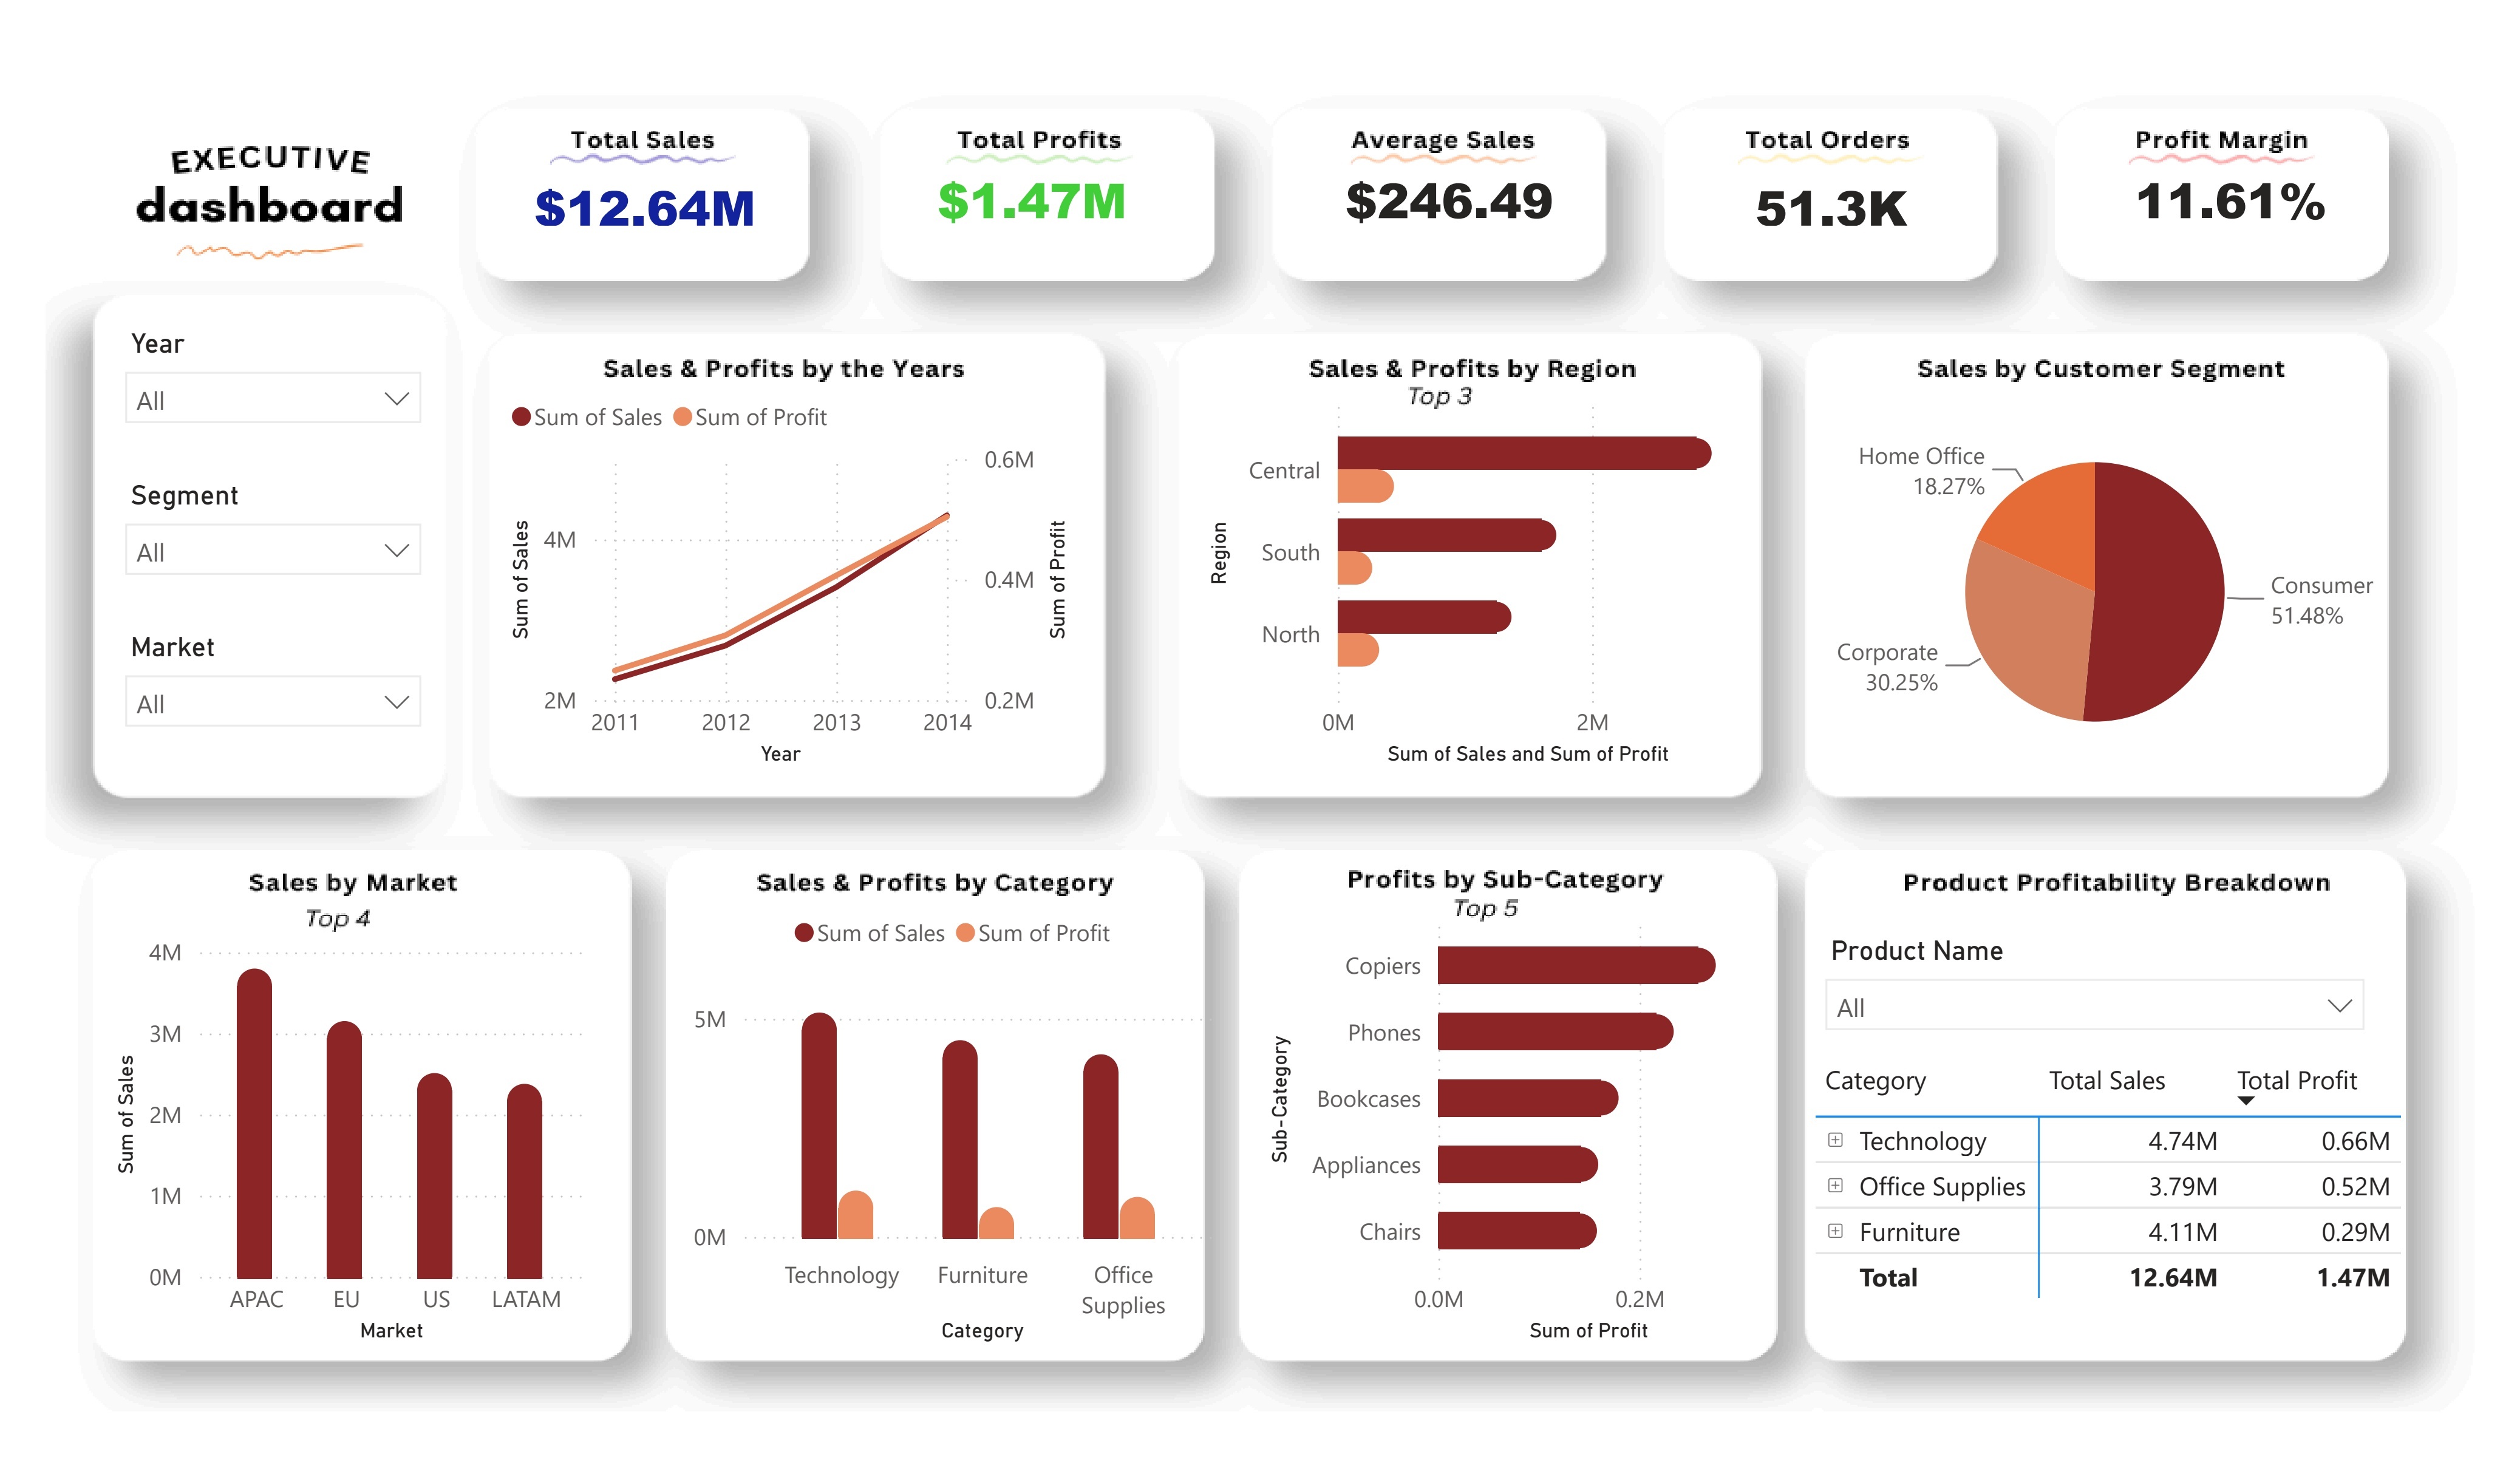

The dashboard page shown, as its layout file describes it:
{"tool":"powerbi","page":{"name":"Page 2","canvas":[1280,720],"ordinal":0},"visuals":[{"type":"cardVisual","fields":{"Data":["Sum(Global_Superstore2.Sales)"]},"box":[224,56,184,56],"z":0},{"type":"cardVisual","fields":{"Data":["Sum(Global_Superstore2.Profit)"]},"box":[432,48,176,64],"z":1000},{"type":"cardVisual","fields":{"Data":["Avg(Global_Superstore2.Sales)"]},"box":[656,48,176,64],"z":2000},{"type":"cardVisual","fields":{"Data":["CountNonNull(Global_Superstore2.Row ID)"]},"box":[872,56,144,56],"z":3000},{"type":"cardVisual","fields":{"Data":["Global_Superstore2.Profit Margin"]},"box":[1072,48,176,64],"z":4000},{"type":"lineChart","fields":{"Category":["Global_Superstore2.Order Date.Variation.Date Hierarchy.Year"],"Y":["Sum(Global_Superstore2.Sales)"],"Y2":["Sum(Global_Superstore2.Profit)"]},"box":[240,176,304,208],"z":5000},{"type":"clusteredBarChart","fields":{"Category":["Global_Superstore2.Region"],"Y":["Sum(Global_Superstore2.Sales)","Sum(Global_Superstore2.Profit)"]},"box":[608,176,288,208],"z":6000},{"type":"pieChart","fields":{"Category":["Global_Superstore2.Segment"],"Y":["Sum(Global_Superstore2.Sales)"]},"box":[928,192,304,192],"z":7000},{"type":"clusteredColumnChart","fields":{"Category":["Global_Superstore2.Market"],"Y":["Sum(Global_Superstore2.Sales)"]},"box":[32,464,256,224],"z":8000},{"type":"clusteredColumnChart","fields":{"Category":["Global_Superstore2.Category"],"Y":["Sum(Global_Superstore2.Sales)","Sum(Global_Superstore2.Profit)"]},"box":[336,448,288,240],"z":9000},{"type":"clusteredBarChart","fields":{"Category":["Global_Superstore2.Sub-Category"],"Y":["Sum(Global_Superstore2.Profit)"]},"box":[640,448,272,240],"z":10000},{"type":"pivotTable","fields":{"Rows":["Global_Superstore2.Category","Global_Superstore2.Sub-Category"],"Values":["Sum(Global_Superstore2.Sales)","Sum(Global_Superstore2.Profit)"]},"box":[928,528,320,144],"z":11000},{"type":"slicer","fields":{"Values":["Global_Superstore2.Order Date.Variation.Date Hierarchy.Year"]},"box":[32,144,176,64],"z":12000},{"type":"slicer","fields":{"Values":["Global_Superstore2.Segment"]},"box":[32,224,176,64],"z":13000},{"type":"slicer","fields":{"Values":["Global_Superstore2.Market"]},"box":[32,304,176,64],"z":14000},{"type":"slicer","fields":{"Values":["Global_Superstore2.Product Name"]},"box":[928,464,304,64],"z":15000}]}

Visuals, with their boxes on the page's 1280x720 design canvas (x1, y1, x2, y2). These are canvas units, not pixel positions in the 2520x1457 screenshot, which may show the page scaled, cropped or inside an application window:
cardVisual - Sum(Global_Superstore2.Sales): Rect(224, 56, 408, 112)
cardVisual - Sum(Global_Superstore2.Profit): Rect(432, 48, 608, 112)
cardVisual - Avg(Global_Superstore2.Sales): Rect(656, 48, 832, 112)
cardVisual - CountNonNull(Global_Superstore2.Row ID): Rect(872, 56, 1016, 112)
cardVisual - Global_Superstore2.Profit Margin: Rect(1072, 48, 1248, 112)
lineChart - Global_Superstore2.Order Date.Variation.Date Hierarchy.Year x Sum(Global_Superstore2.Sales): Rect(240, 176, 544, 384)
clusteredBarChart - Global_Superstore2.Region x Sum(Global_Superstore2.Sales): Rect(608, 176, 896, 384)
pieChart - Global_Superstore2.Segment x Sum(Global_Superstore2.Sales): Rect(928, 192, 1232, 384)
clusteredColumnChart - Global_Superstore2.Market x Sum(Global_Superstore2.Sales): Rect(32, 464, 288, 688)
clusteredColumnChart - Global_Superstore2.Category x Sum(Global_Superstore2.Sales): Rect(336, 448, 624, 688)
clusteredBarChart - Global_Superstore2.Sub-Category x Sum(Global_Superstore2.Profit): Rect(640, 448, 912, 688)
pivotTable - Global_Superstore2.Category x Global_Superstore2.Sub-Category: Rect(928, 528, 1248, 672)
slicer - Global_Superstore2.Order Date.Variation.Date Hierarchy.Year: Rect(32, 144, 208, 208)
slicer - Global_Superstore2.Segment: Rect(32, 224, 208, 288)
slicer - Global_Superstore2.Market: Rect(32, 304, 208, 368)
slicer - Global_Superstore2.Product Name: Rect(928, 464, 1232, 528)
